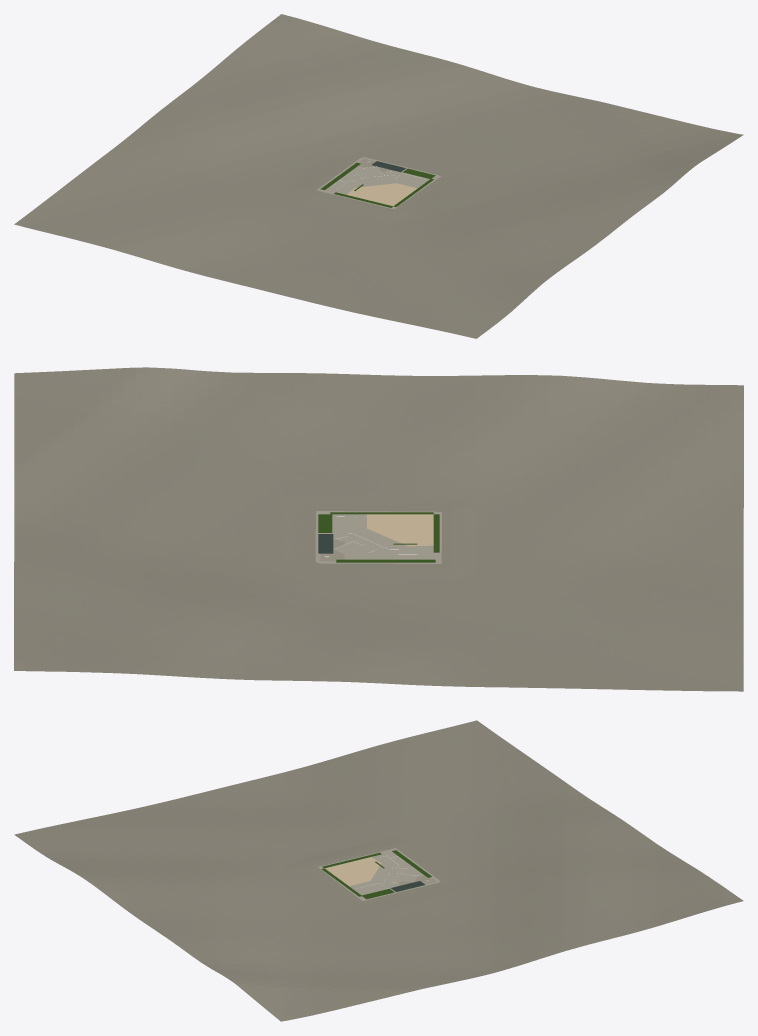
The picture shows the model from 3 angles, top to bottom: view 1: azimuth 30°, elevation 25°; view 2: azimuth 150°, elevation 25°; view 3: azimuth 270°, elevation 25°; orthographic projection. The views are drawn at different scales.
Parts seen in each view (by area): view 1: ground_context-estimated, surface_school-paved-walk, surface_sports-field; view 2: ground_context-estimated, surface_school-paved-walk, surface_sports-field; view 3: ground_context-estimated, surface_school-paved-walk, surface_sports-field.
Part boxes in pixels (left/top/right/bottom): ground_context-estimated: left=14, top=14, right=743, bottom=338; surface_school-paved-walk: left=316, top=157, right=440, bottom=209; surface_sports-field: left=347, top=183, right=417, bottom=206; ground_context-estimated: left=14, top=367, right=743, bottom=691; surface_school-paved-walk: left=315, top=511, right=441, bottom=563; surface_sports-field: left=366, top=514, right=433, bottom=546; ground_context-estimated: left=14, top=720, right=743, bottom=1021; surface_school-paved-walk: left=318, top=848, right=439, bottom=900; surface_sports-field: left=325, top=857, right=381, bottom=886.
Bounding box in the file's own units: 983 × 30.39 × 983.
Materials: 6 (6 with a texture image).
